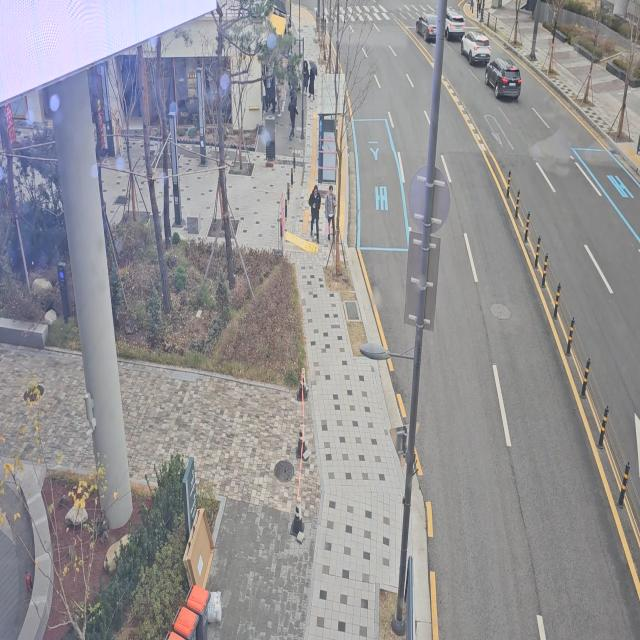Car: (481, 50, 525, 101), (459, 28, 496, 64), (412, 5, 444, 42), (440, 4, 472, 38)
